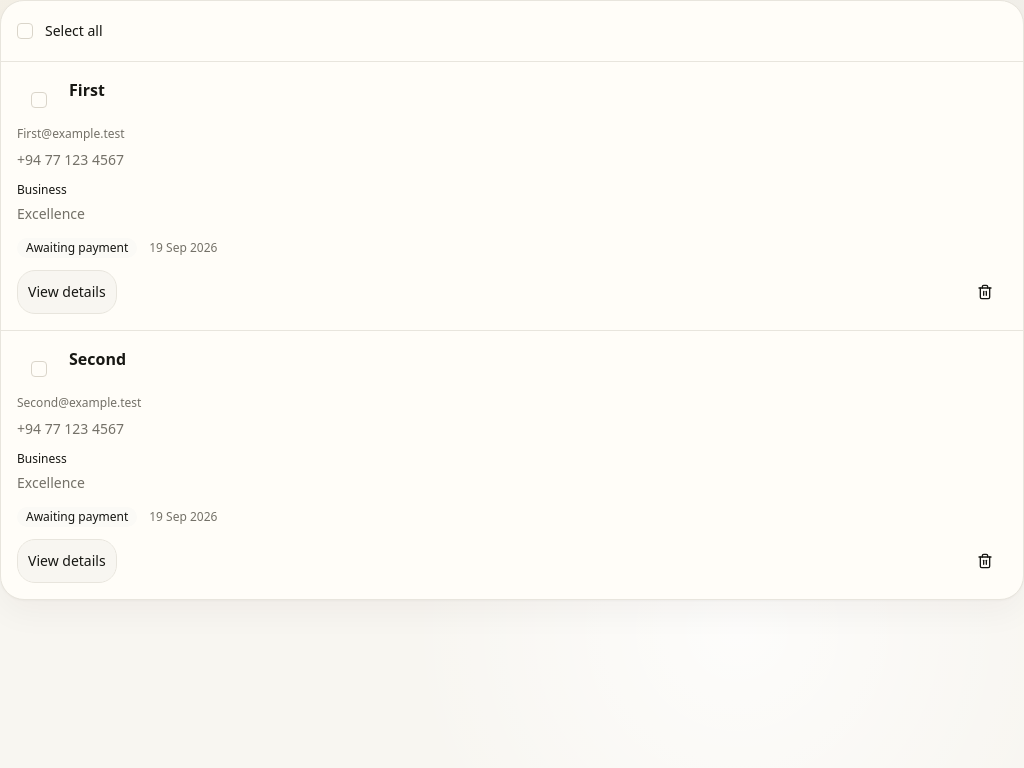
Test: admin list UX › selects individual records without opening them and links unpaid records to In-progress
Click the checkbox named "Select First" at (39, 100), box [31,92,47,108]
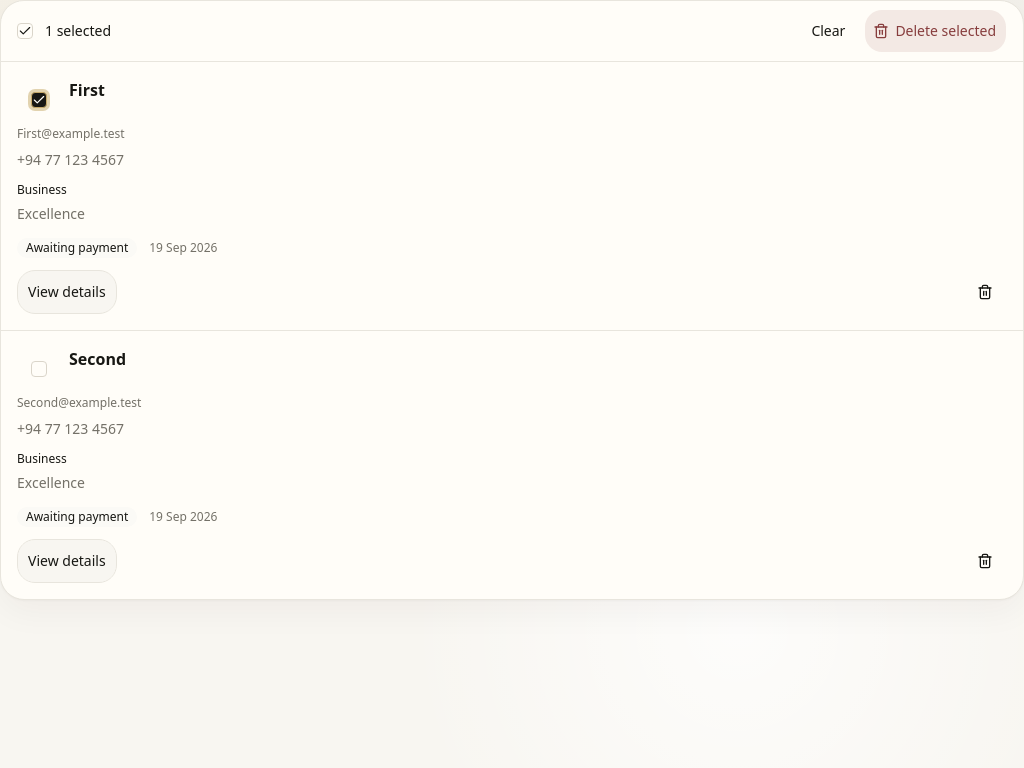
Now the text "1 selected" is shown, box [17,21,111,40]
